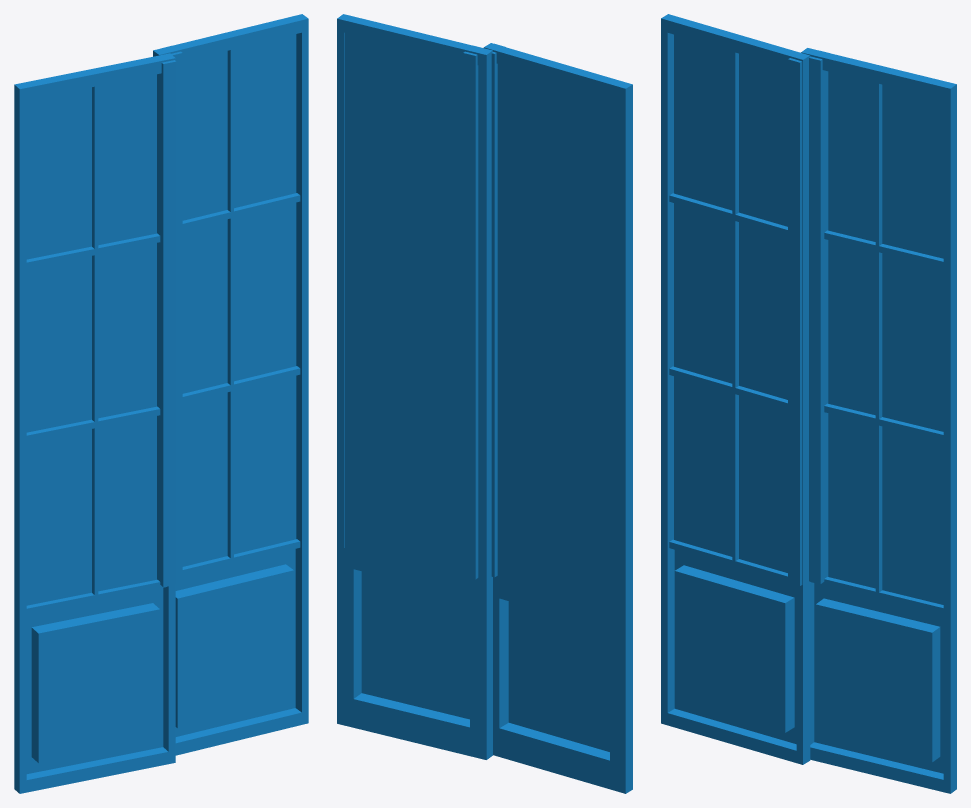
File: wall_door.fbx
The picture shows the model from 3 angles, left to right: view 1: azimuth 30°, elevation 25°; view 2: azimuth 150°, elevation 25°; view 3: azimuth 330°, elevation 25°; orthographic projection.
Parts seen in each view (by area): view 1: wall_door; view 2: wall_door; view 3: wall_door.
Part boxes in pixels (<box>): wall_door: <box>14,14,308,793</box>; wall_door: <box>337,14,632,793</box>; wall_door: <box>661,14,956,793</box>.
Size of the model in its own units: 96.64 by 225 by 10.04.
